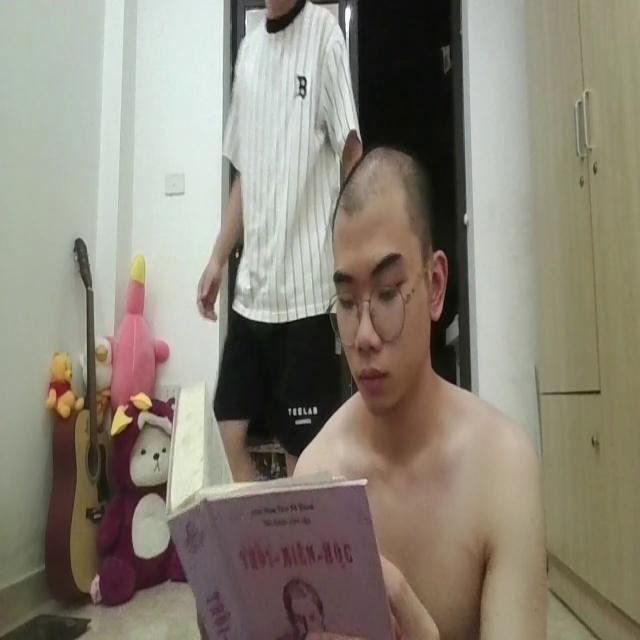book: (164, 381, 398, 640)
extra_person: (196, 0, 370, 492)
student: (286, 144, 550, 640)
